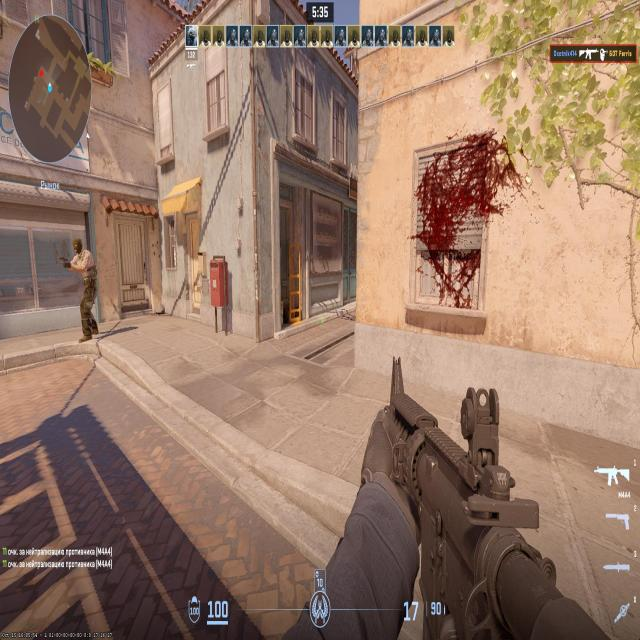T: (76, 240, 95, 334)
T_heat: (78, 250, 85, 263)
